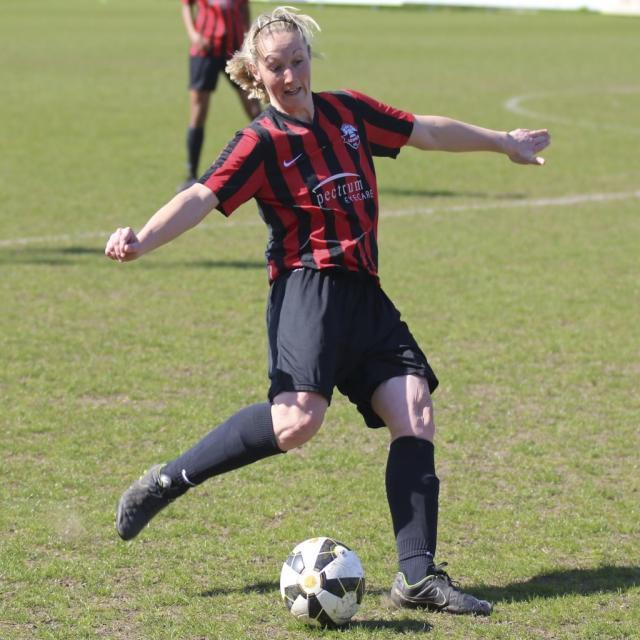football: (277, 523, 390, 635)
